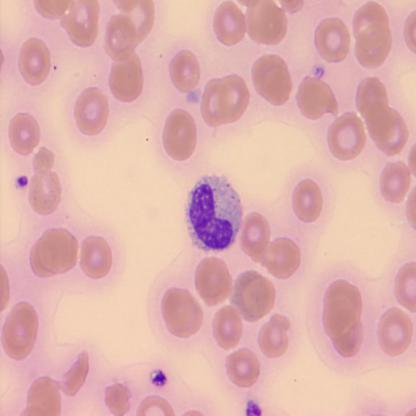Metamyelocyte: (183, 173, 244, 254)
